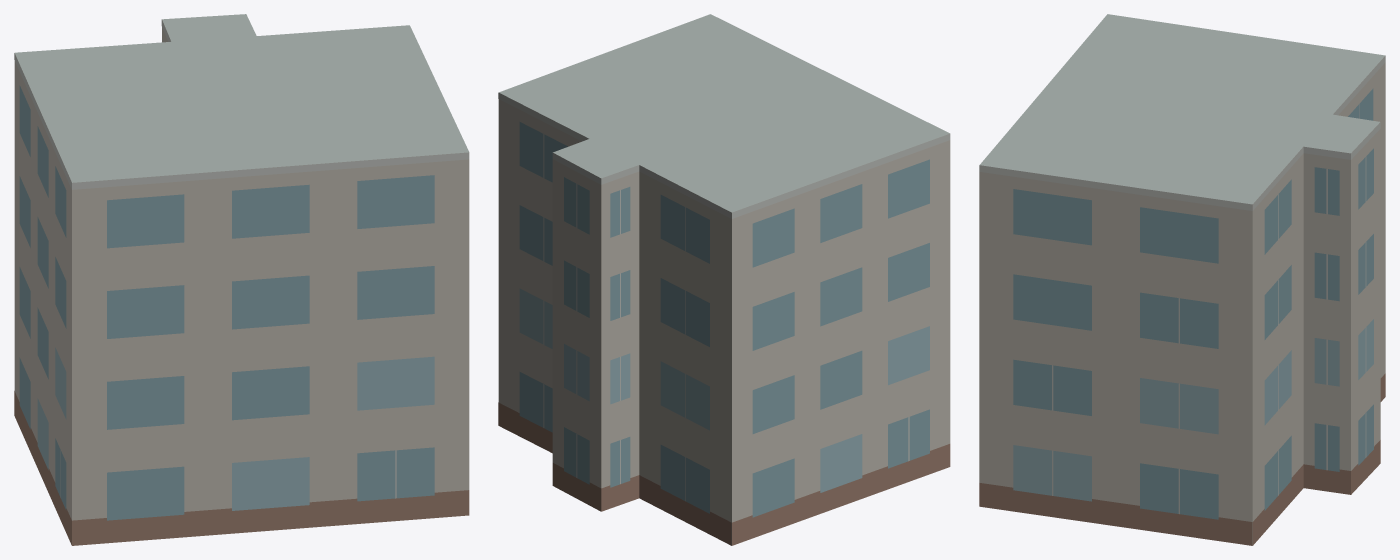
Rendered from survey-upis-32705882.glb.
3 renders of one model, left to right at view 1: azimuth 30°, elevation 25°; view 2: azimuth 150°, elevation 25°; view 3: azimuth 270°, elevation 25°, orthographic. The views are drawn at different scales.
Parts seen in each view (by area): view 1: survey-upis-32705882.tmp; view 2: survey-upis-32705882.tmp; view 3: survey-upis-32705882.tmp.
Part boxes in pixels (<box>): survey-upis-32705882.tmp: <box>14,14,469,545</box>; survey-upis-32705882.tmp: <box>498,14,950,545</box>; survey-upis-32705882.tmp: <box>979,14,1385,545</box>.
Bounding box in the file's own units: 15.08 × 12.6 × 13.59.
